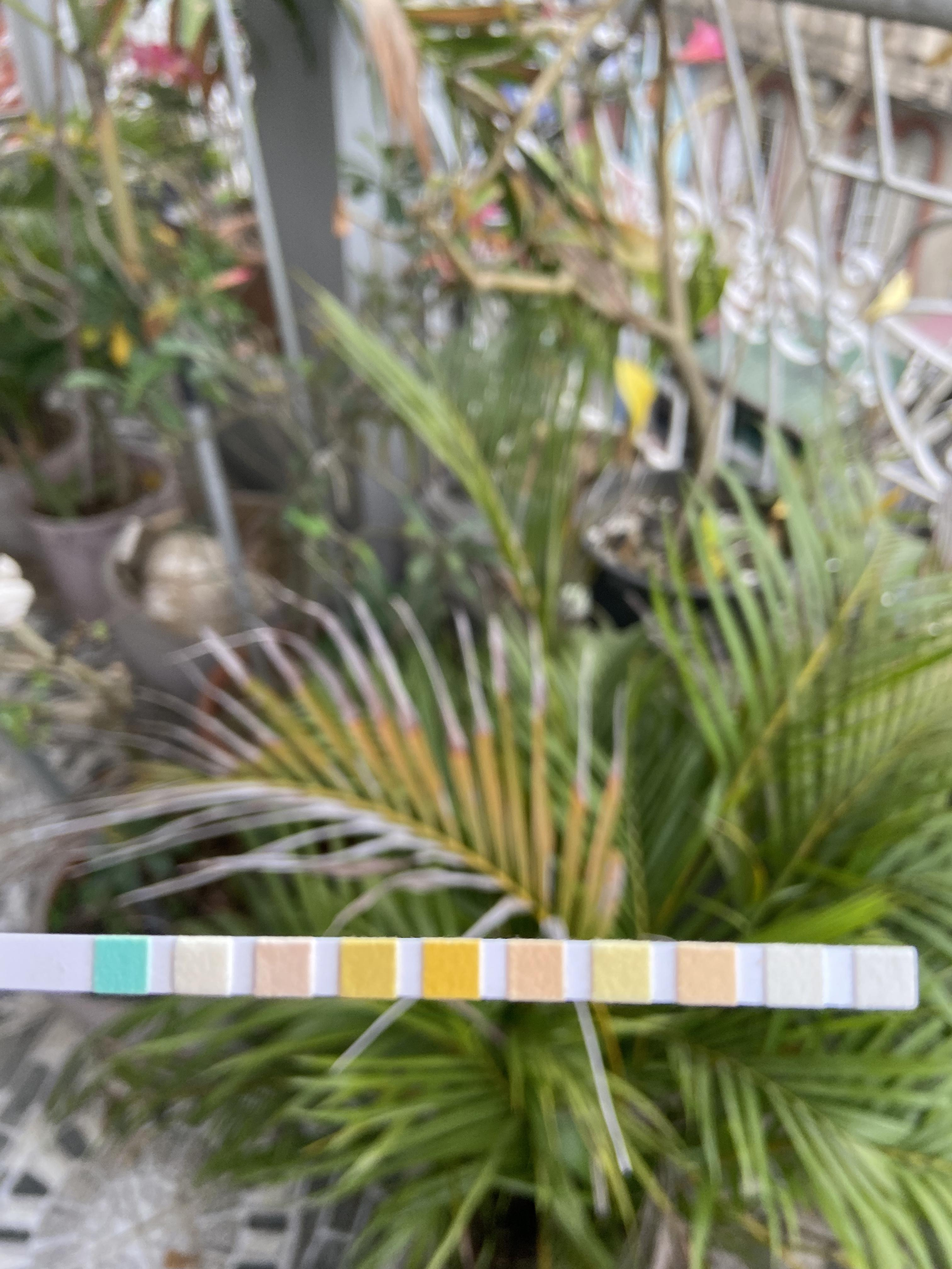Bilirubin: (178, 938, 229, 994)
Blood: (424, 939, 478, 998)
Glucose: (96, 939, 147, 993)
Ketone: (257, 940, 310, 997)
Leukocytes: (856, 948, 914, 1006)
Nitrite: (766, 944, 822, 1006)
Protein: (593, 942, 648, 1001)
SpGravity: (342, 938, 394, 997)
Urobilinogen: (679, 943, 734, 1004)
pH: (509, 941, 563, 1000)
strip: (19, 935, 918, 1009)
